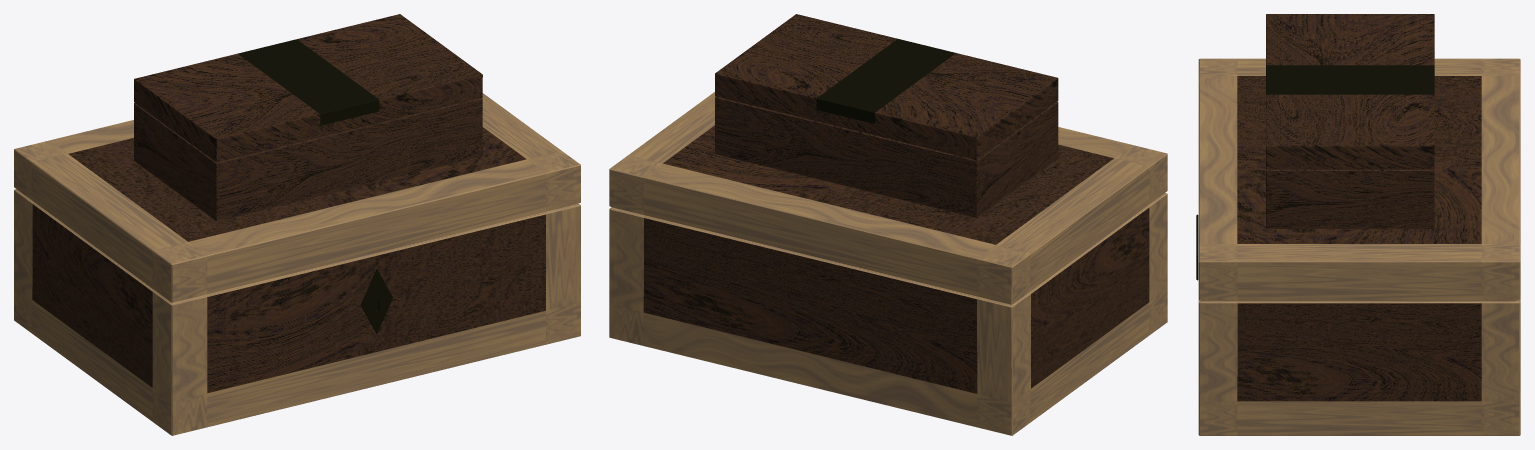
File: cgt_Accessory_30_001.glb
3 renders of one model, left to right at view 1: azimuth 30°, elevation 25°; view 2: azimuth 150°, elevation 25°; view 3: azimuth 270°, elevation 25°, orthographic. The views are drawn at different scales.
Parts seen in each view (by area): view 1: cgt_Accessory_30_001; view 2: cgt_Accessory_30_001; view 3: cgt_Accessory_30_001.
Part boxes in pixels (bbox=[...]): cgt_Accessory_30_001: bbox=[14, 14, 580, 435]; cgt_Accessory_30_001: bbox=[609, 14, 1167, 435]; cgt_Accessory_30_001: bbox=[1196, 14, 1520, 435].
Size of the model in its own units: 0.2466 by 0.146 by 0.1662.
3 materials, 2 textured.
